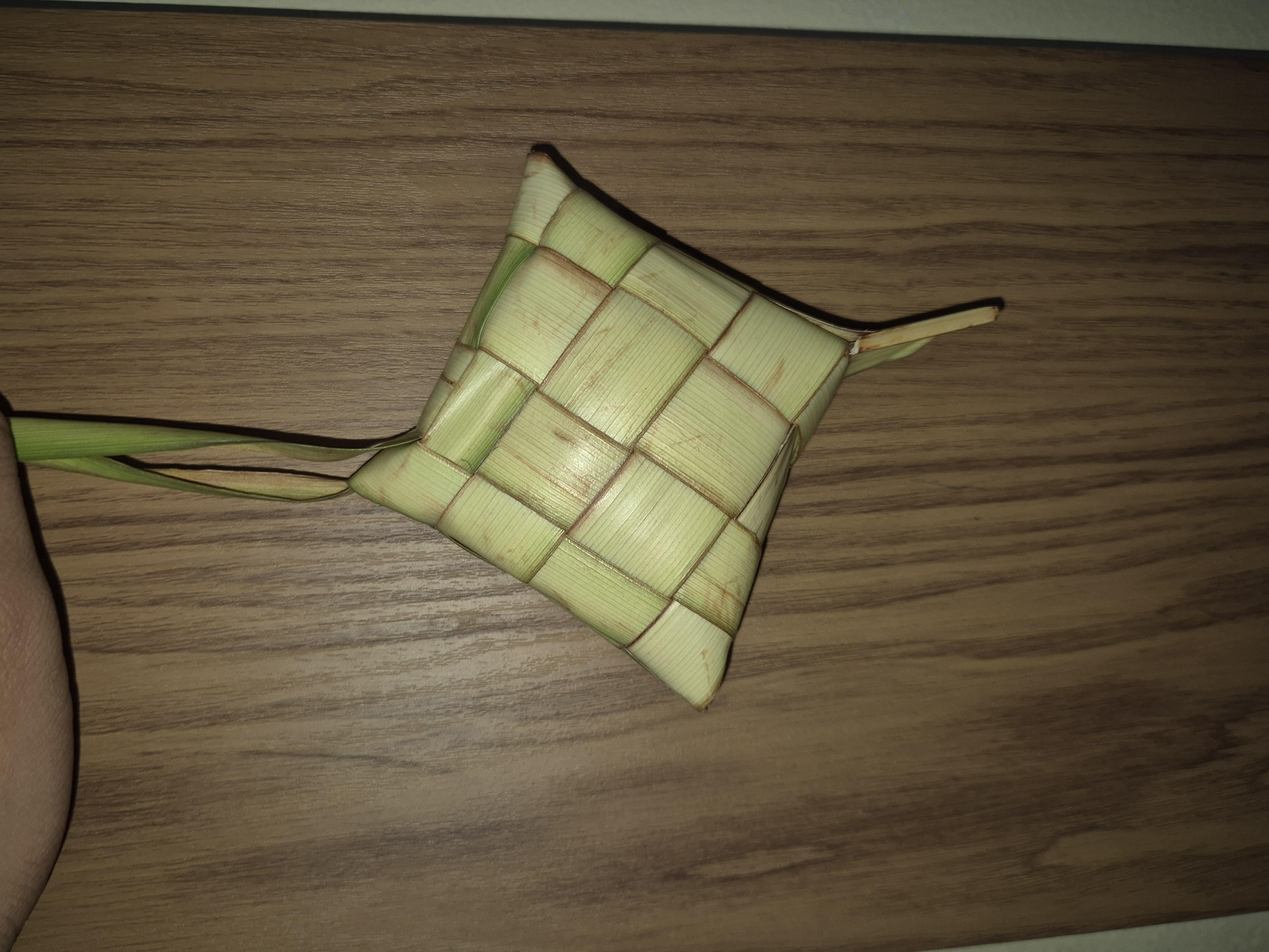Tipat Nasi: (328, 265, 1063, 638)
